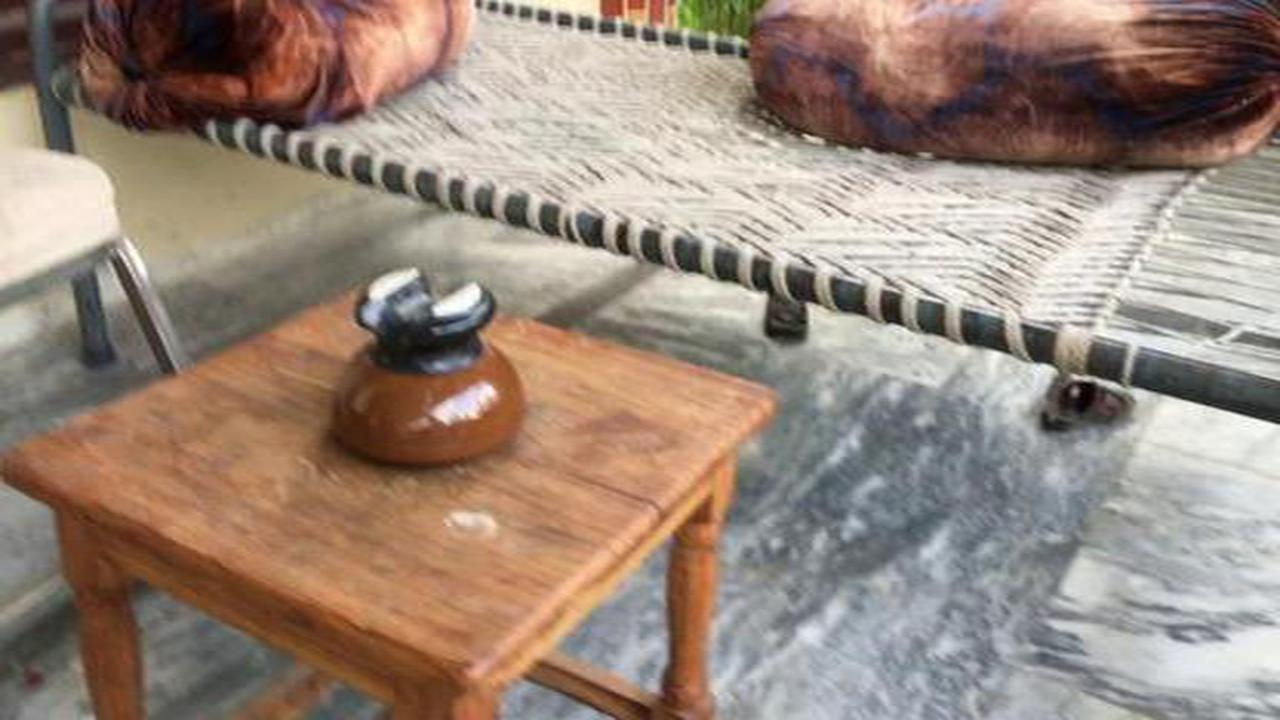insulator_pin: (305, 245, 551, 478)
